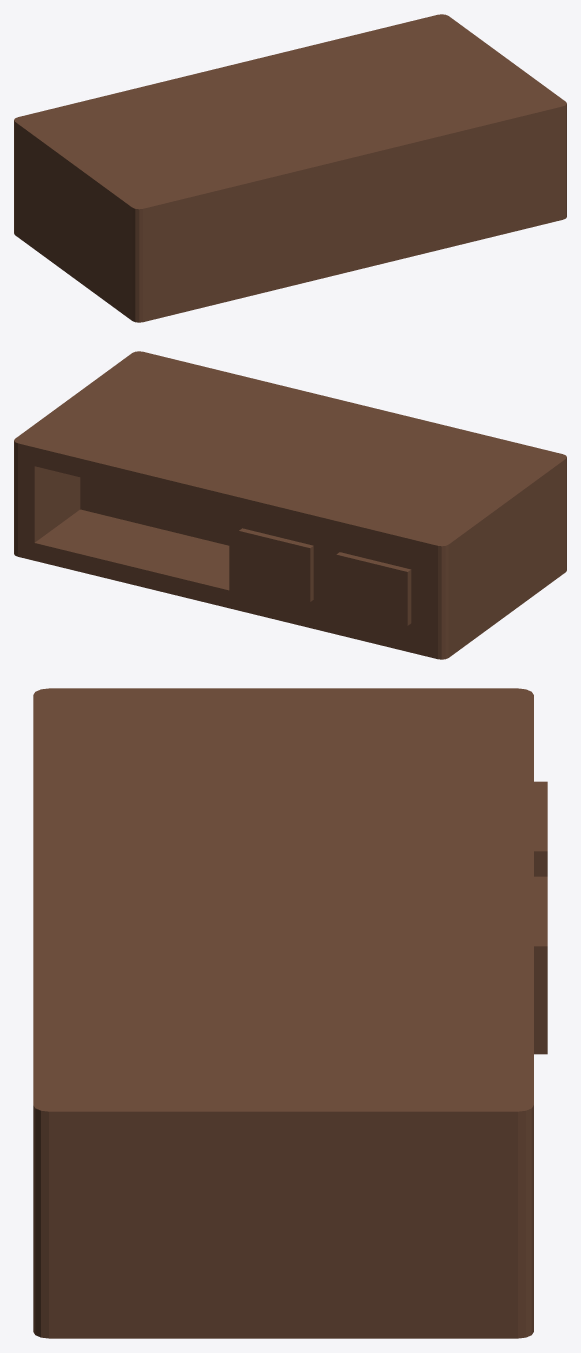
The model's file is TV Table.fbx.
The picture shows the model from 3 angles, top to bottom: view 1: azimuth 30°, elevation 25°; view 2: azimuth 150°, elevation 25°; view 3: azimuth 270°, elevation 25°; orthographic projection. The views are drawn at different scales.
Parts seen in each view (by area): view 1: TV table; view 2: TV table; view 3: TV table.
Part boxes in pixels (bbox=[...]): TV table: bbox=[14, 14, 566, 322]; TV table: bbox=[14, 351, 566, 659]; TV table: bbox=[33, 688, 547, 1338].
Bounding box in the file's own units: 2.06 × 1 × 4.
